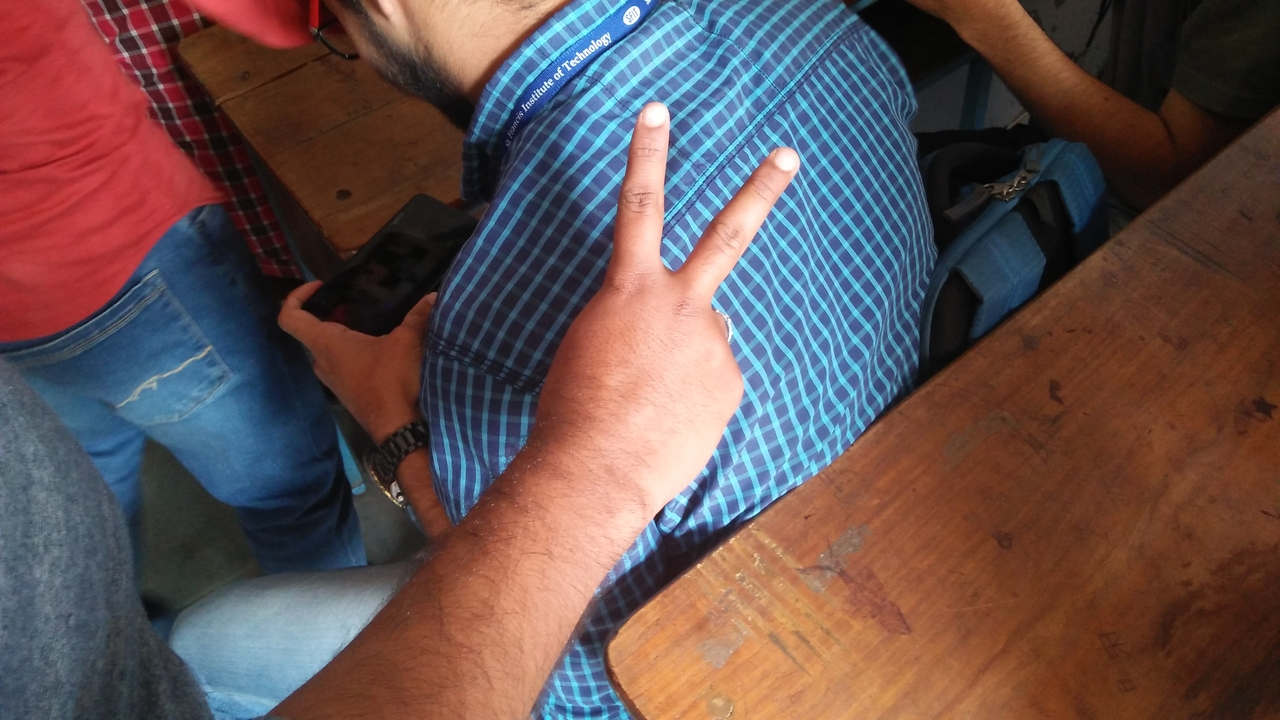fingertip: (740, 134, 808, 190), (624, 88, 678, 138)
